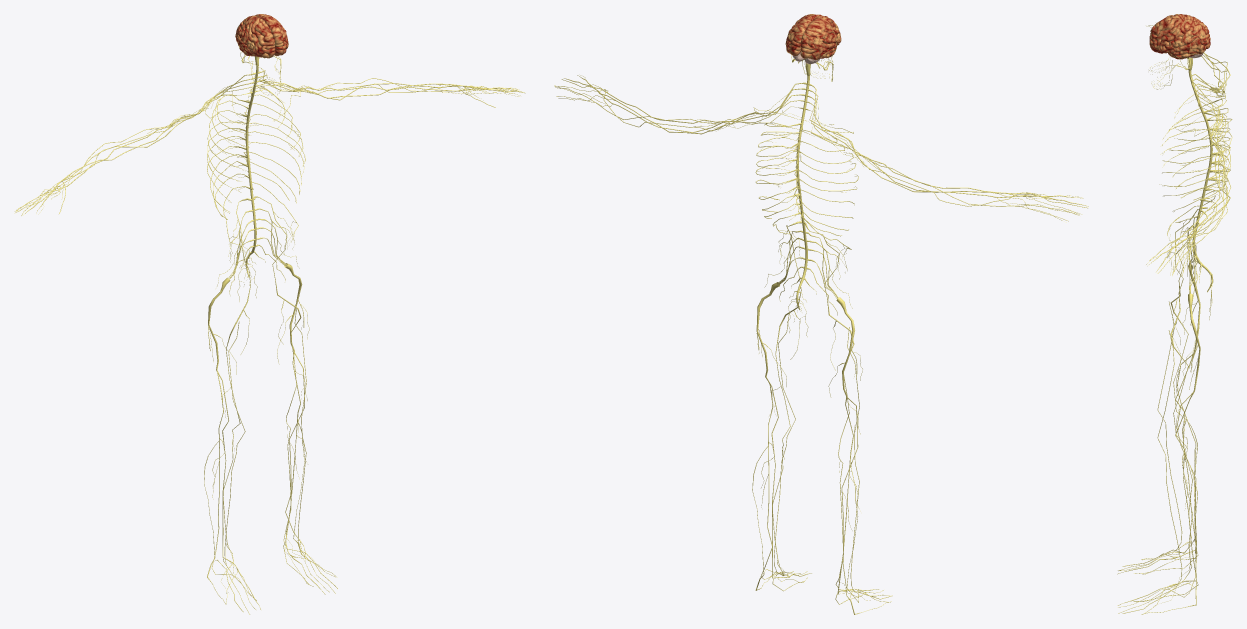
Rendered from nurv_textured.fbx.
3 views of the same model, side by side, from view 1: azimuth 30°, elevation 25°; view 2: azimuth 150°, elevation 25°; view 3: azimuth 270°, elevation 25° (orthographic). The views are drawn at different scales.
Parts seen in each view (by area): view 1: Nervous_Cerebrum1; view 2: Nervous_Cerebrum1; view 3: Nervous_Cerebrum1.
Part boxes in pixels (x1,y1,x2,y2): Nervous_Cerebrum1: (14,14,525,614); Nervous_Cerebrum1: (554,14,1088,614); Nervous_Cerebrum1: (1117,14,1232,614).
Size of the model in its own units: 27.36 by 29.19 by 5.29.
Materials: 3 (2 with a texture image).
